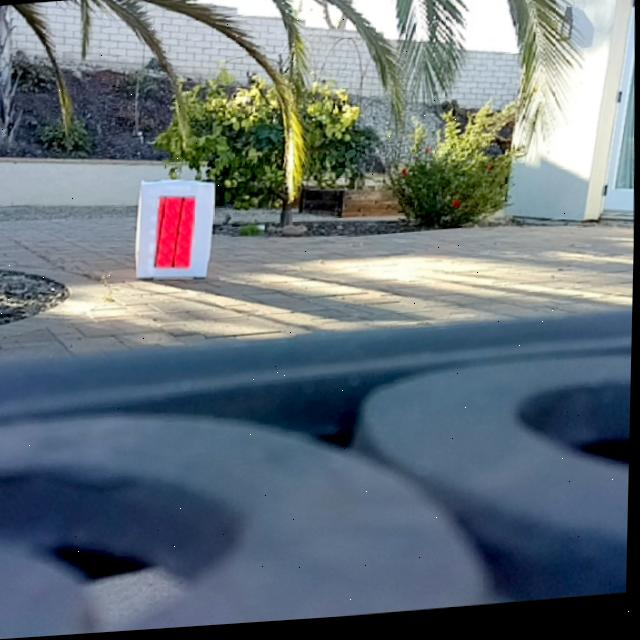led: (162, 195, 195, 272)
